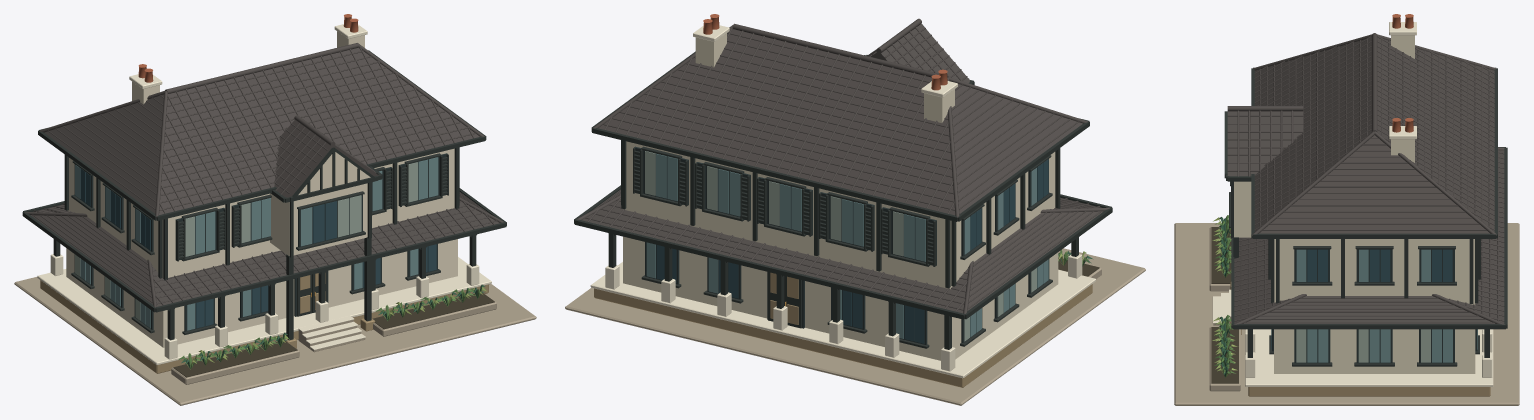
3 views of the same model, side by side, from view 1: azimuth 30°, elevation 25°; view 2: azimuth 150°, elevation 25°; view 3: azimuth 270°, elevation 25° (orthographic). The views are drawn at different scales.
Visible parts, largest first — view 1: Roof covering, Limewashed masonry, Casements and sills, Stained structural timber, Eave fascia, Garden beds, Louvred shutters, Pandan planting, Entrance stair, Entrance joinery; view 2: Roof covering, Limewashed masonry, Casements and sills, Eave fascia, Stained structural timber, Louvred shutters, Entrance joinery; view 3: Roof covering, Limewashed masonry, Casements and sills, Eave fascia, Stained structural timber, Garden beds, Pandan planting, Entrance stair.
Boxes of the visible parts, x1=… form: Roof covering: x1=25, y1=43, x2=503, y2=309; Limewashed masonry: x1=14, y1=24, x2=536, y2=405; Casements and sills: x1=71, y1=153, x2=442, y2=334; Stained structural timber: x1=53, y1=14, x2=476, y2=340; Eave fascia: x1=22, y1=50, x2=506, y2=312; Garden beds: x1=171, y1=292, x2=496, y2=384; Louvred shutters: x1=175, y1=153, x2=448, y2=261; Pandan planting: x1=178, y1=284, x2=486, y2=369; Entrance stair: x1=298, y1=315, x2=365, y2=352; Entrance joinery: x1=294, y1=270, x2=328, y2=316; Roof covering: x1=576, y1=18, x2=1109, y2=316; Limewashed masonry: x1=565, y1=25, x2=1145, y2=405; Casements and sills: x1=640, y1=146, x2=1052, y2=348; Eave fascia: x1=574, y1=51, x2=1112, y2=319; Stained structural timber: x1=608, y1=14, x2=1078, y2=349; Louvred shutters: x1=633, y1=146, x2=936, y2=266; Entrance joinery: x1=767, y1=272, x2=804, y2=328; Roof covering: x1=1227, y1=33, x2=1506, y2=327; Limewashed masonry: x1=1174, y1=22, x2=1519, y2=405; Casements and sills: x1=1229, y1=181, x2=1479, y2=366; Eave fascia: x1=1226, y1=67, x2=1507, y2=329; Stained structural timber: x1=1224, y1=14, x2=1489, y2=357; Garden beds: x1=1209, y1=227, x2=1240, y2=391; Pandan planting: x1=1212, y1=215, x2=1237, y2=377; Entrance stair: x1=1212, y1=289, x2=1231, y2=325.
Size of the model in its own units: 18.1 by 11.59 by 14.6.
